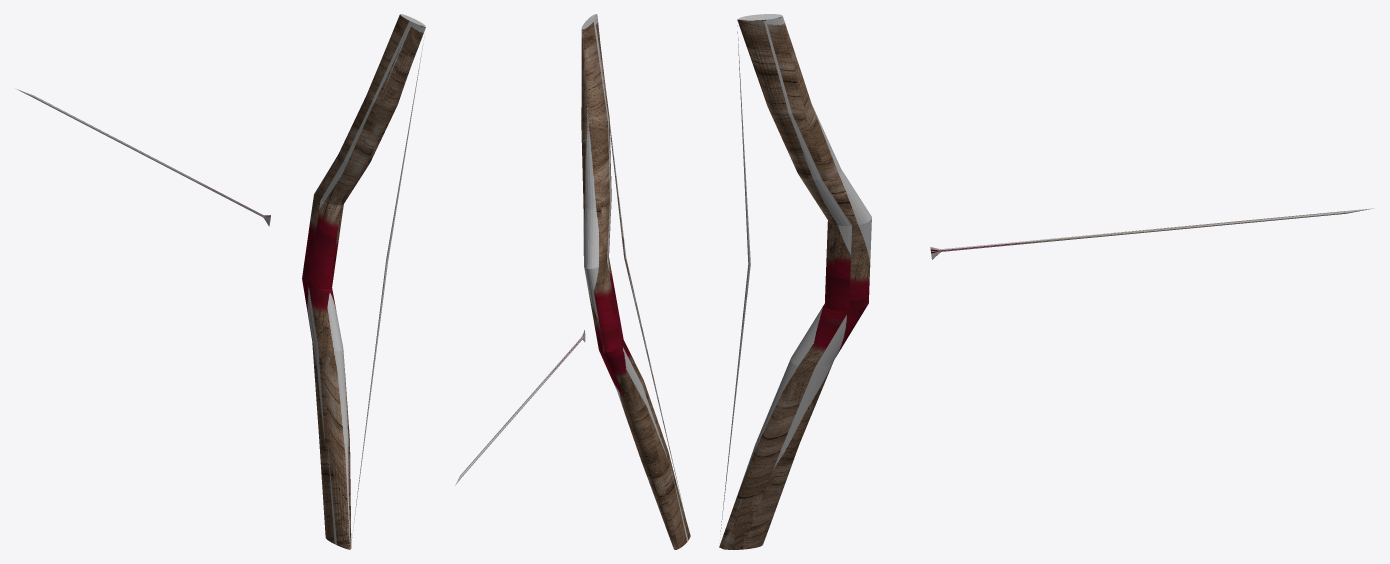
The model's file is Arco22.obj.
3 views of the same model, side by side, from view 1: azimuth 30°, elevation 25°; view 2: azimuth 150°, elevation 25°; view 3: azimuth 270°, elevation 25° (orthographic). The views are drawn at different scales.
Parts seen in each view (by area): view 1: Cilindro; view 2: Cilindro; view 3: Cilindro.
Boxes of the visible parts, x1,y1,x2,y2 form: Cilindro: (15, 14, 425, 549); Cilindro: (455, 14, 690, 549); Cilindro: (719, 14, 1373, 549).
Bounding box in the file's own units: 0.2805 × 0.9705 × 1.
1 material, 1 textured.
